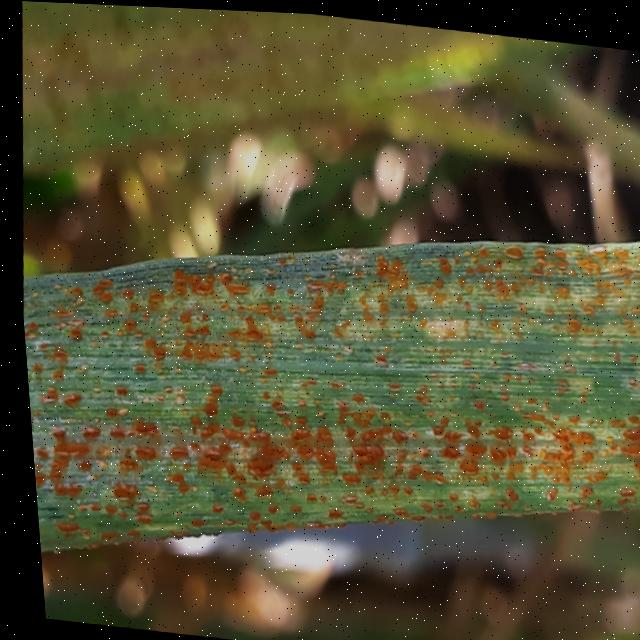orang_rust: (9, 158, 640, 620)
